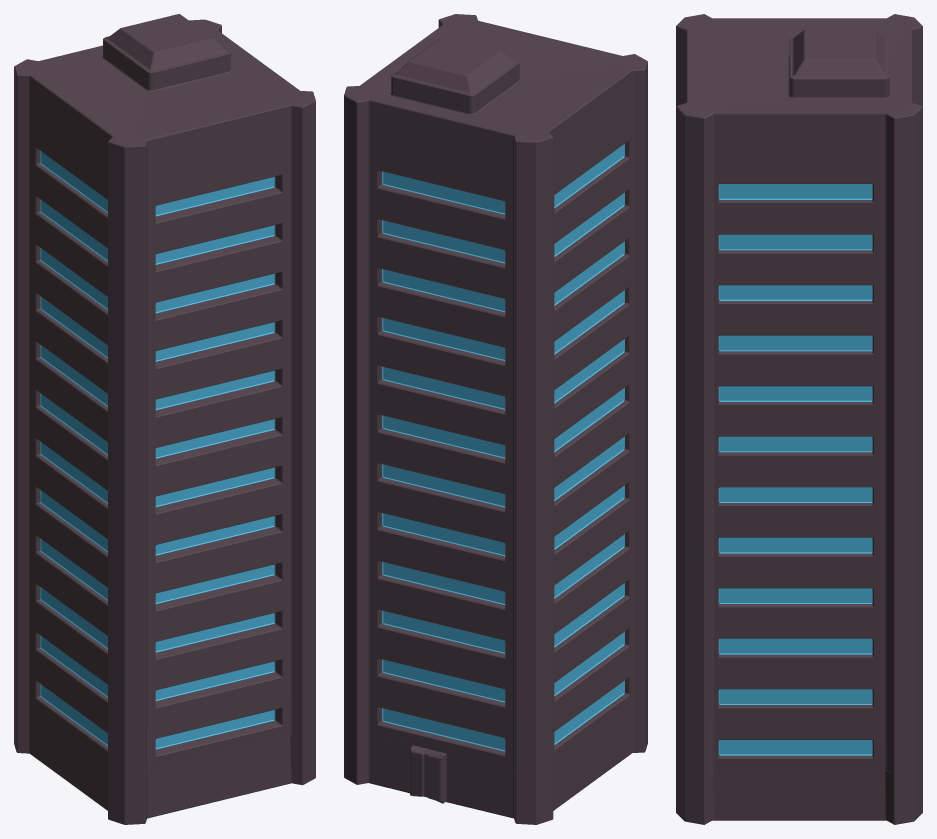
File: buildings8.fbx
3 views of the same model, side by side, from view 1: azimuth 30°, elevation 25°; view 2: azimuth 150°, elevation 25°; view 3: azimuth 270°, elevation 25° (orthographic). The views are drawn at different scales.
Parts seen in each view (by area): view 1: 5; view 2: 5; view 3: 5.
Part boxes in pixels (left/top/right/bottom): 5: left=14, top=14, right=315, bottom=824; 5: left=344, top=14, right=647, bottom=824; 5: left=676, top=14, right=922, bottom=824.
Size of the model in its own units: 1879 by 6208 by 1879.
